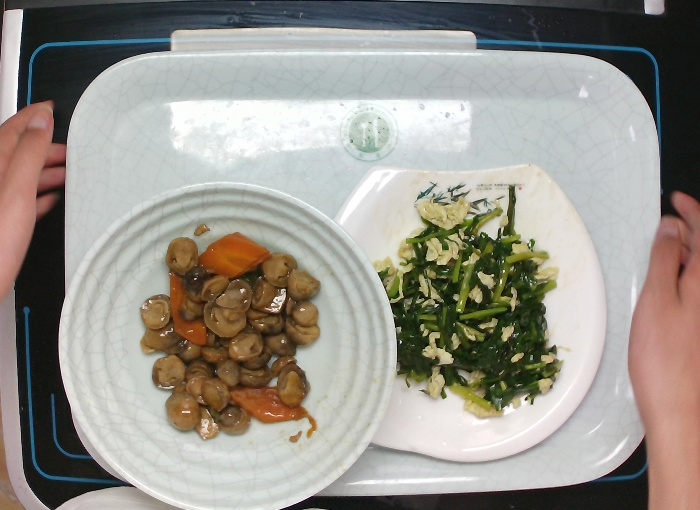JYsf-Da_Tang_Wan: (53, 173, 401, 509)
JYsf-Mian_Pan: (338, 158, 613, 465)
